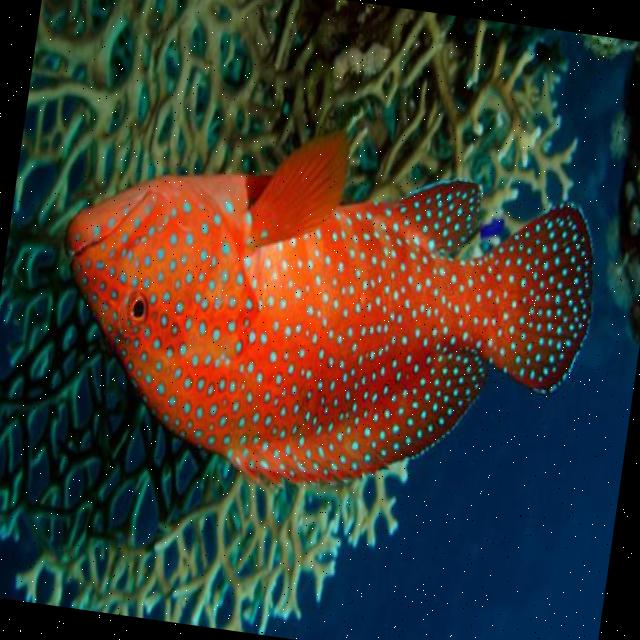ikan: (33, 92, 612, 532)
